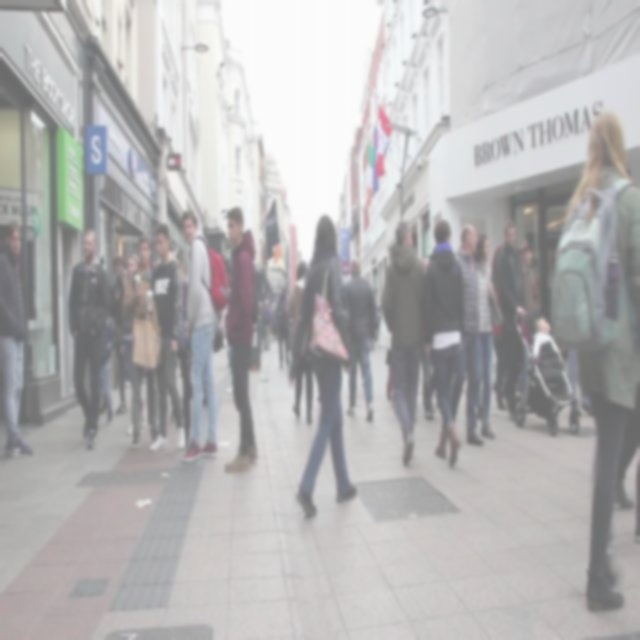pessoa: (548, 106, 640, 614), (286, 210, 358, 518), (179, 205, 230, 463), (379, 216, 428, 464), (141, 220, 187, 453), (422, 218, 464, 470), (223, 204, 261, 474), (67, 226, 110, 449), (0, 216, 35, 457), (122, 232, 160, 449), (465, 230, 503, 440), (452, 223, 485, 447), (494, 216, 526, 423), (342, 253, 380, 423), (118, 248, 149, 438), (358, 292, 398, 417), (284, 258, 314, 424), (106, 253, 130, 418), (612, 420, 640, 552), (489, 245, 510, 410), (567, 349, 602, 432), (421, 254, 436, 420), (531, 316, 564, 391), (171, 258, 188, 398), (514, 236, 542, 312), (99, 318, 116, 426), (217, 296, 236, 392), (274, 284, 291, 369), (256, 290, 278, 352), (169, 396, 191, 432), (286, 298, 296, 369), (221, 254, 231, 284), (96, 249, 106, 267)
